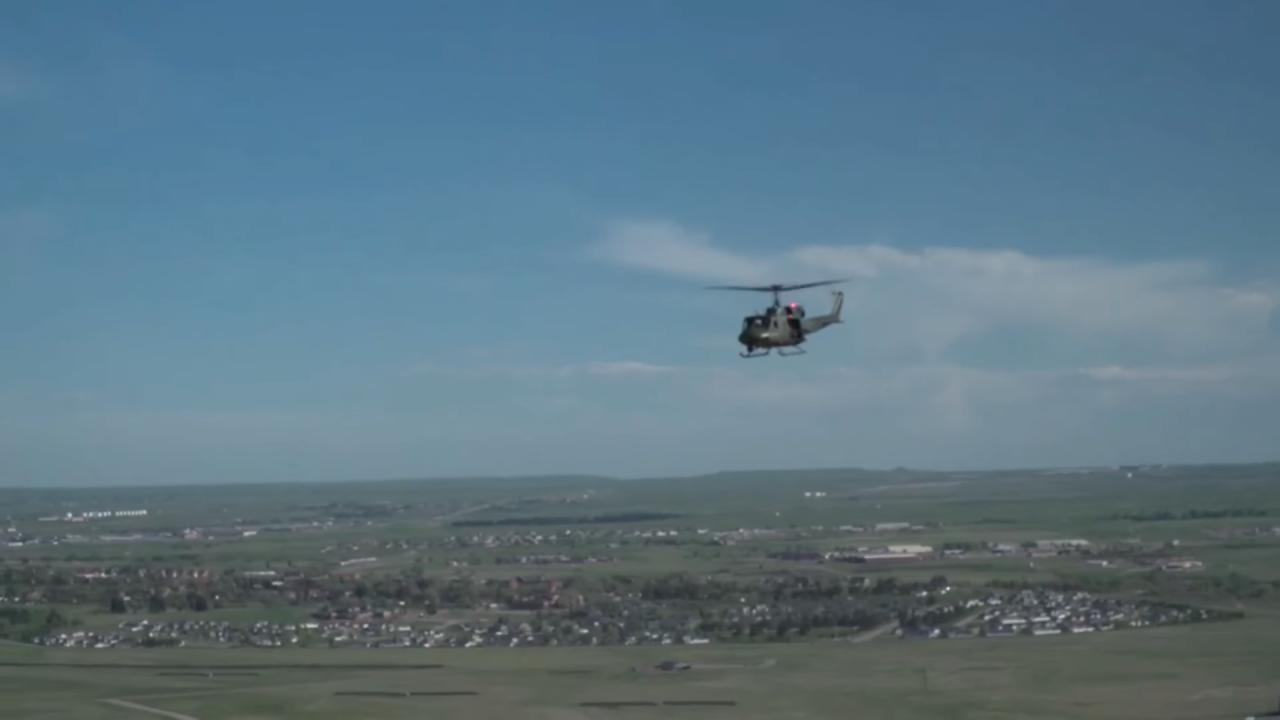Helicopter: (681, 254, 882, 382)
